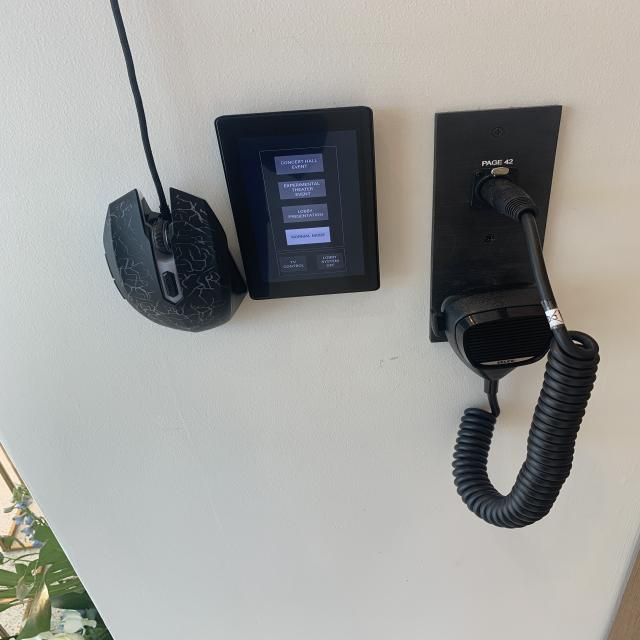Mouse: (85, 182, 262, 352)
